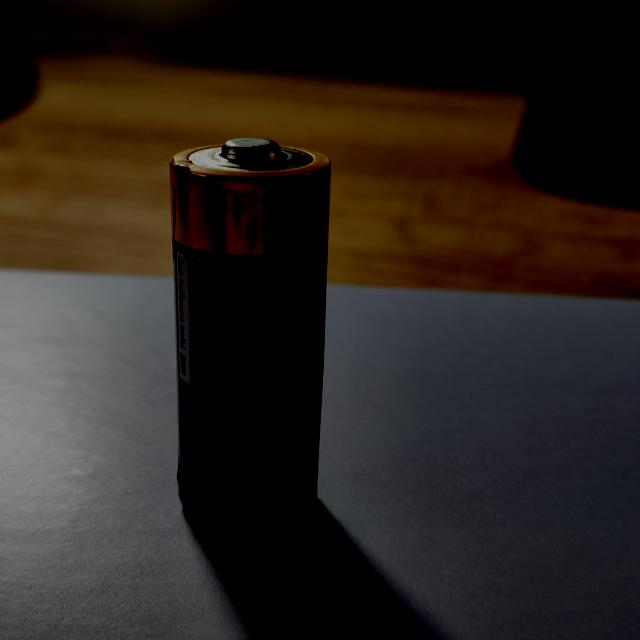AA: (168, 129, 334, 540)
